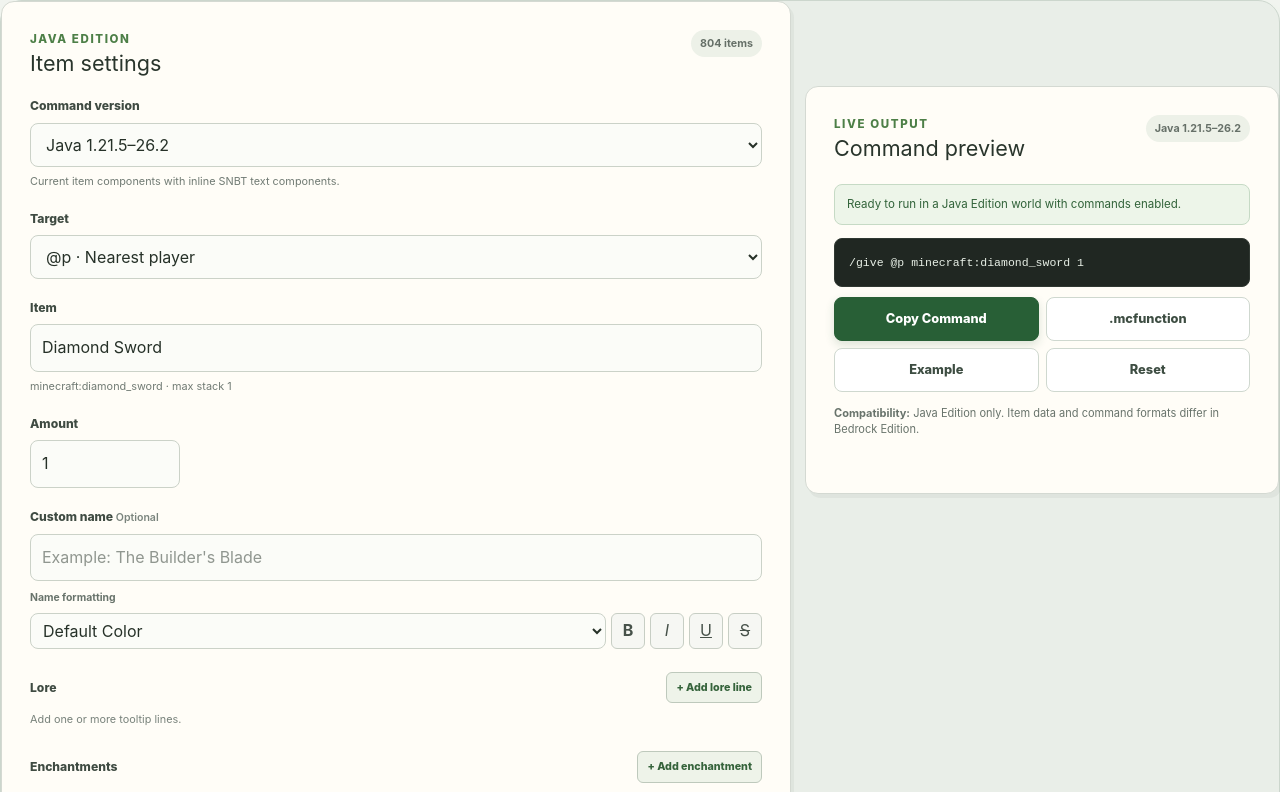
it: new Minecraft tool interfaces › updates the give command and blocks invalid stack amounts
This screenshot has width=1280, height=792.
Expected: the element named "Generated give command" reads "/give @p minecraft:diamond_sword 1", [849,256,1084,269]
Replace the text in the number field labelled "Amount" with "2" at (105, 464), box [30,440,180,488]
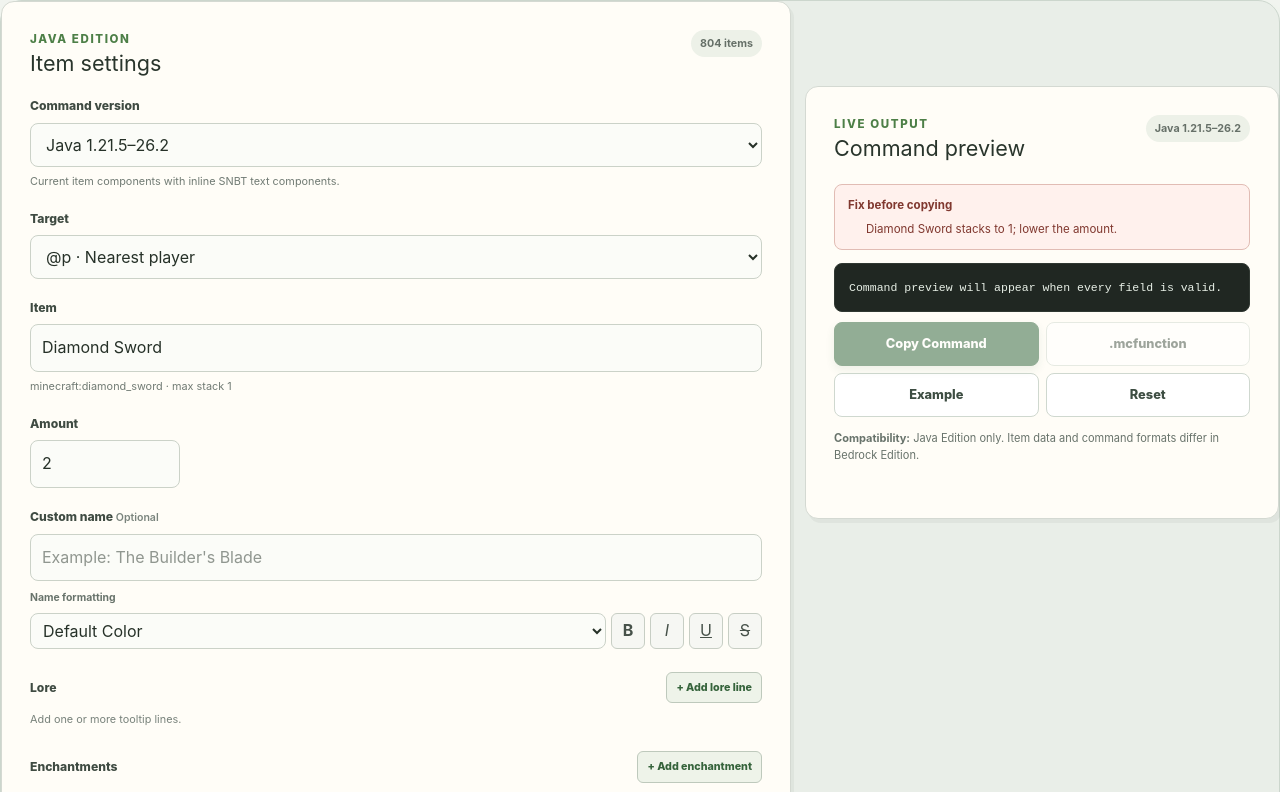
Now the message shows "Diamond Sword stacks to 1", box [866,222,1117,236]
Now the button "Copy Command" is disabled, box [834,322,1038,366]
Type "雪's \\\"Blade\\\"" into the field labelled "Custom name Optional" at (396, 558), box [30,534,762,581]
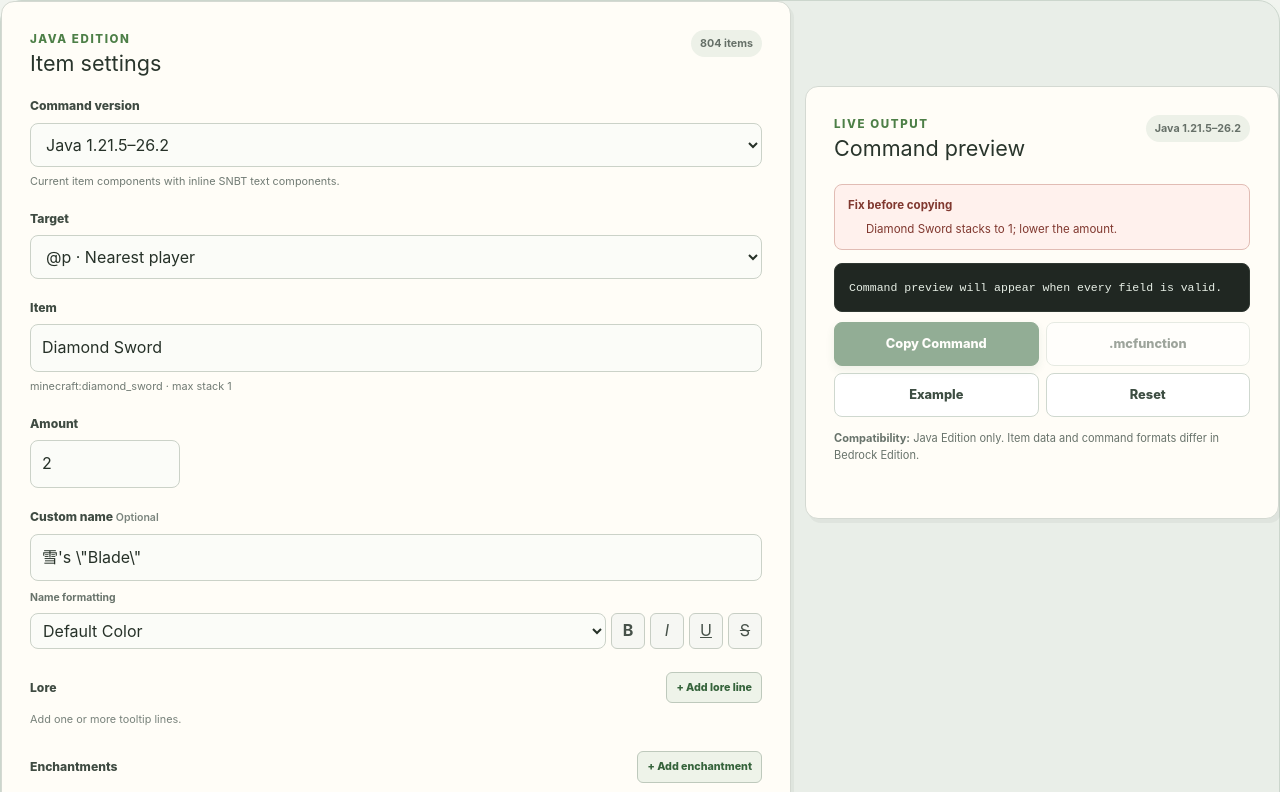
Replace the text in the number field labelled "Amount" with "1" at (105, 464), box [30,440,180,488]
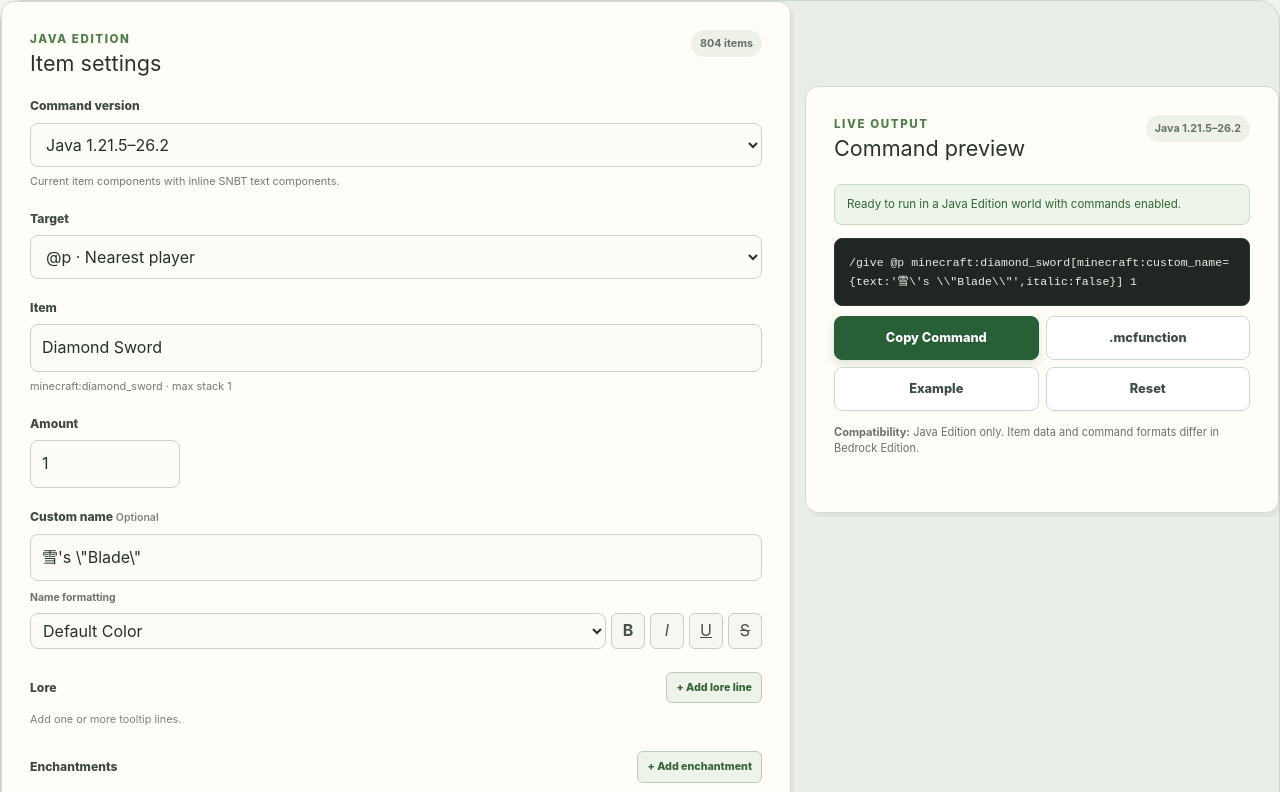
Now the element named "Generated give command" shows "雪", box [849,256,1229,288]
